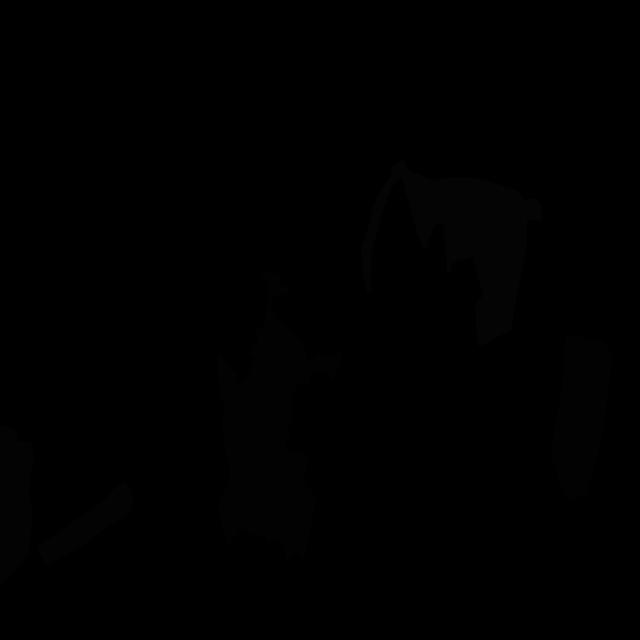cardboard: (216, 270, 344, 561), (551, 336, 612, 500)
metal: (36, 481, 134, 566), (0, 426, 34, 585)
soft_plastic: (361, 159, 543, 347)
